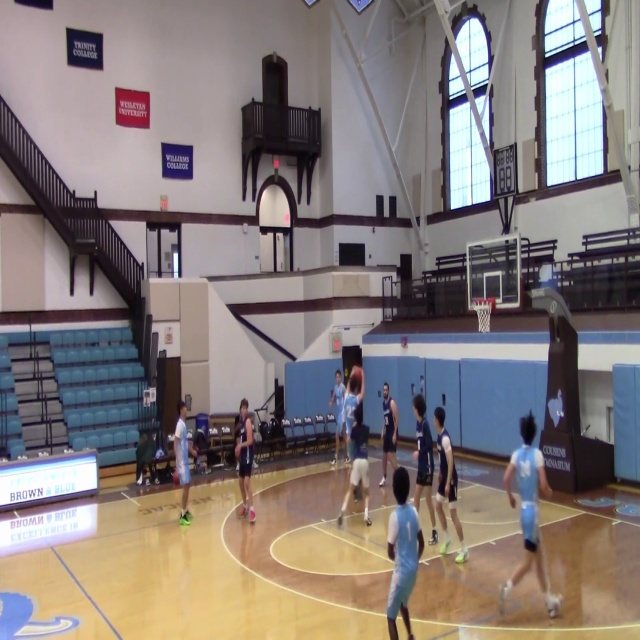Basketball: (172, 473, 180, 485), (413, 450, 419, 462)
